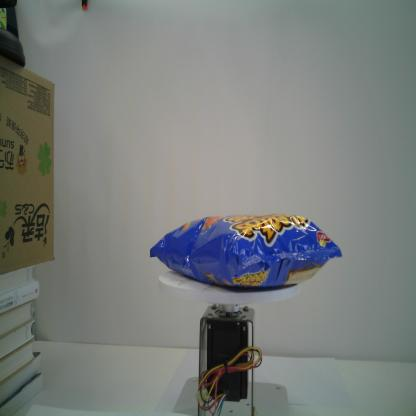Puffed Food: (148, 212, 346, 291)
